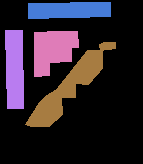parkingspot: (25, 50, 102, 126), (5, 30, 23, 108), (28, 2, 110, 18), (34, 32, 49, 76), (47, 31, 78, 47), (48, 46, 71, 62), (99, 42, 115, 50)
